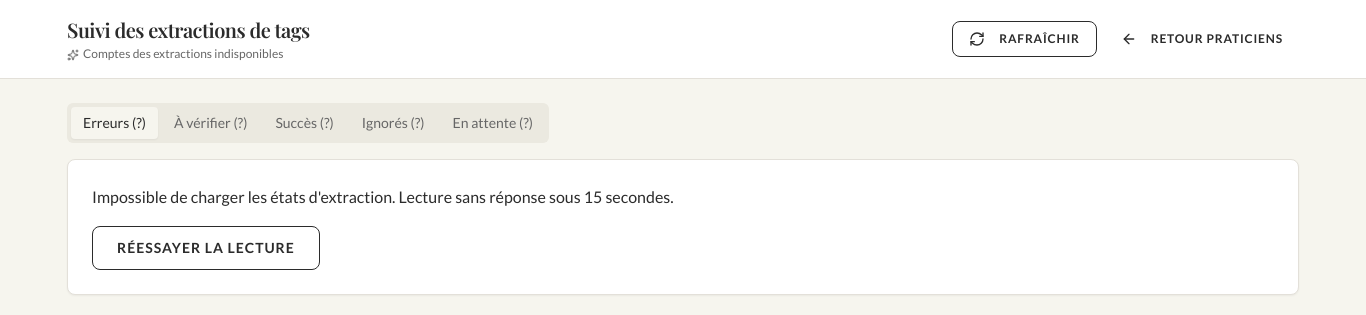
Test: à quinze secondes la lecture passe à inconnu puis la reprise ignore un ancien succès
Click the button "Réessayer la lecture" at (206, 248), box top-left (92, 226), bottom-right (320, 270)
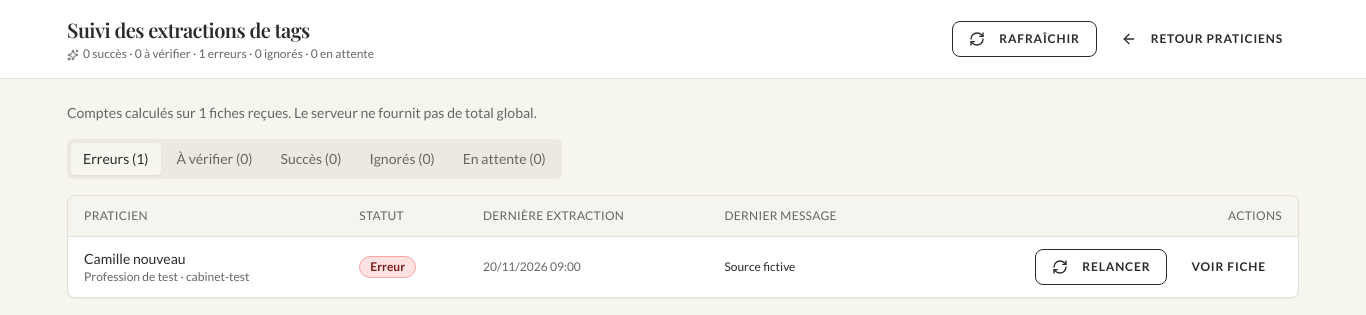
Result: the text "nouveau" is shown at top-left (133, 250), bottom-right (186, 267)
Result: the text "Erreurs (1)" is shown at top-left (71, 143), bottom-right (160, 175)
